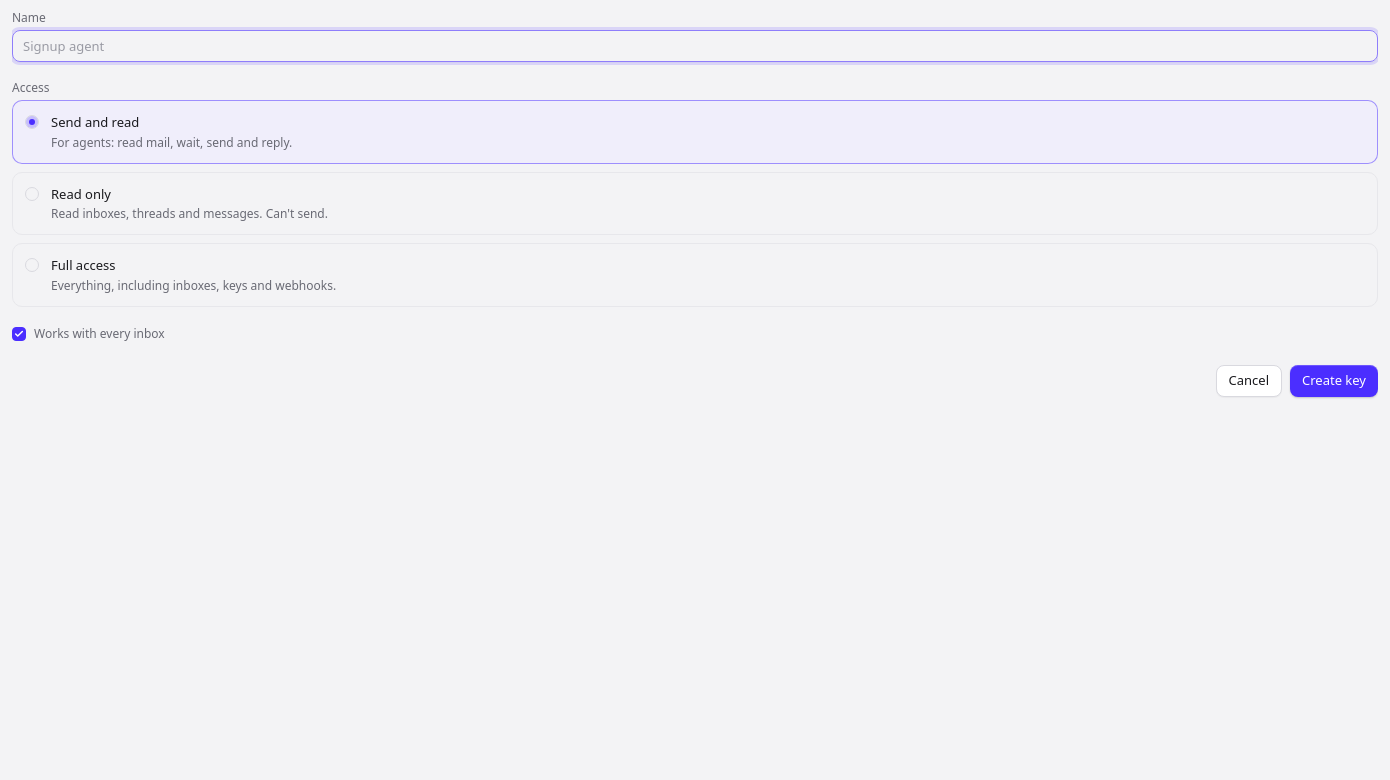
it: CreateApiKeyForm › requires an inbox when the key is restricted
This screenshot has width=1390, height=780.
Type "Agent" into the field labelled "Name" at (695, 46), box [12,30,1378,62]
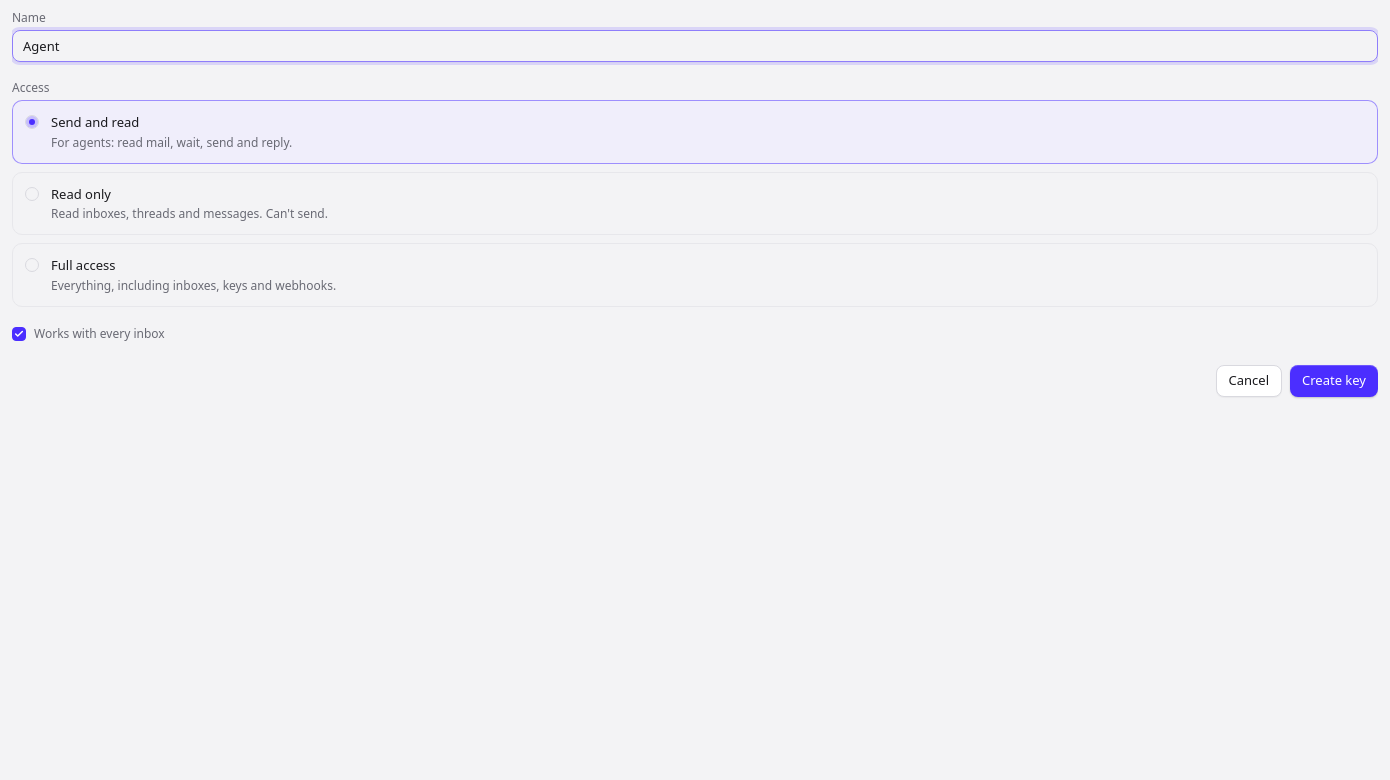
Click the checkbox named "Works with every inbox" at (19, 334), box [12,326,26,340]
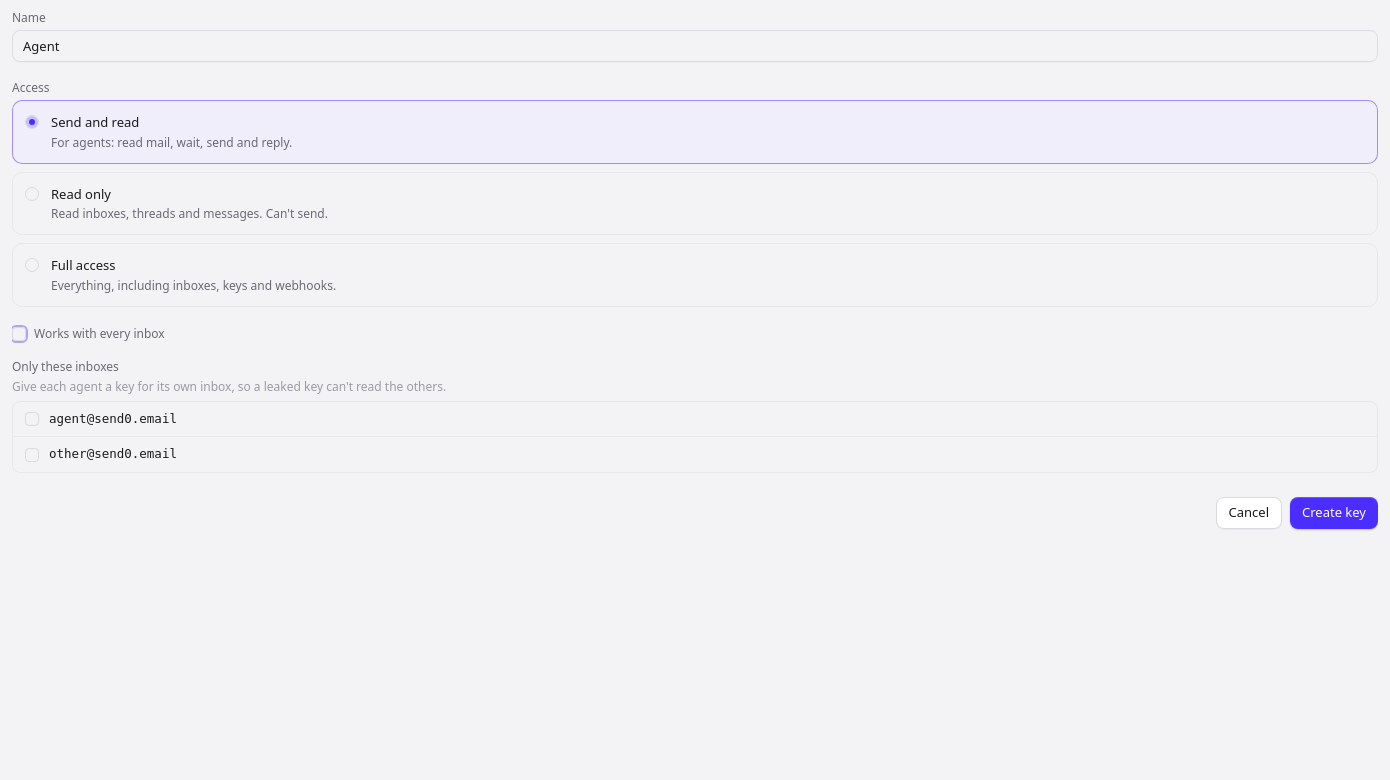
Click the button "Create key" at (1334, 513), box [1290,497,1378,529]
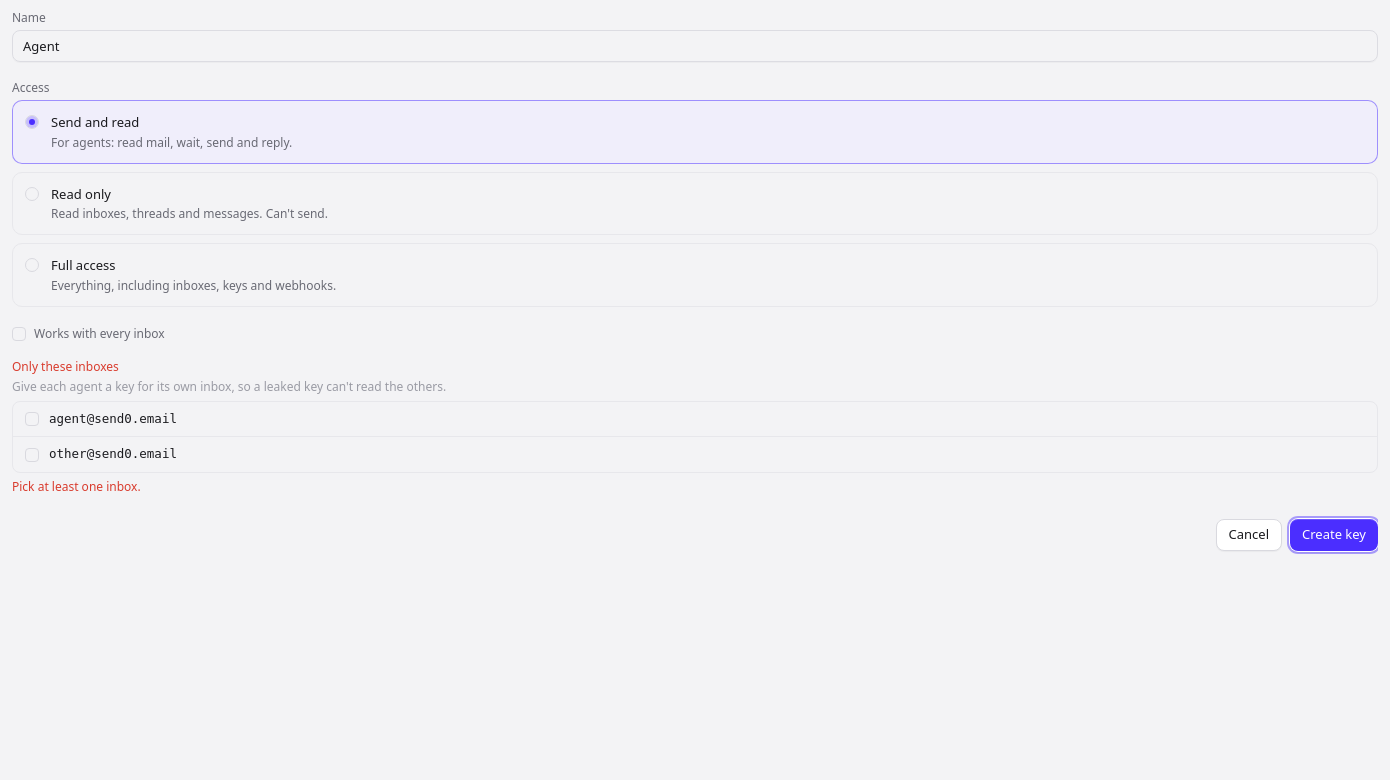
Check: the text "Pick at least one inbox." is shown, box [12,478,141,495]
